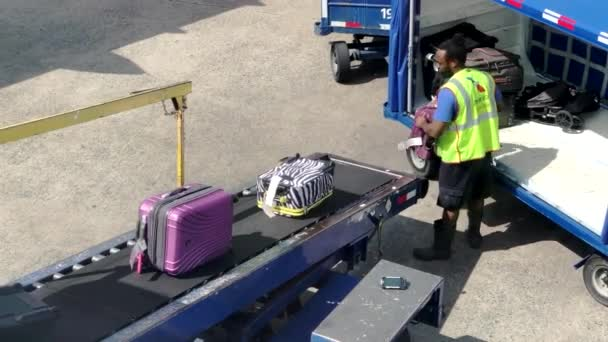baggageTruck: (3, 96, 432, 338)
